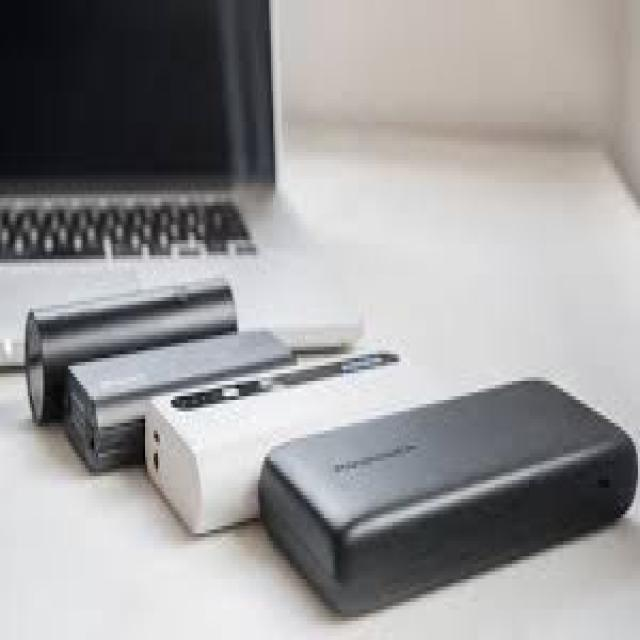power_bank: (254, 373, 640, 634), (150, 340, 412, 539), (56, 332, 312, 463), (23, 288, 235, 430)
